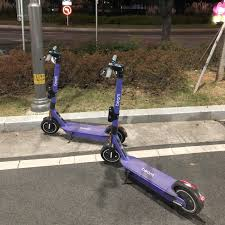kick_board: (102, 55, 205, 213), (42, 46, 127, 142)
kick_body: (68, 126, 105, 140)
kick_handler: (101, 56, 123, 79), (45, 45, 61, 64)
kick_neck: (48, 65, 58, 112), (113, 80, 121, 132)
kick_wheel: (176, 179, 205, 213), (103, 144, 120, 163), (42, 117, 58, 134)
